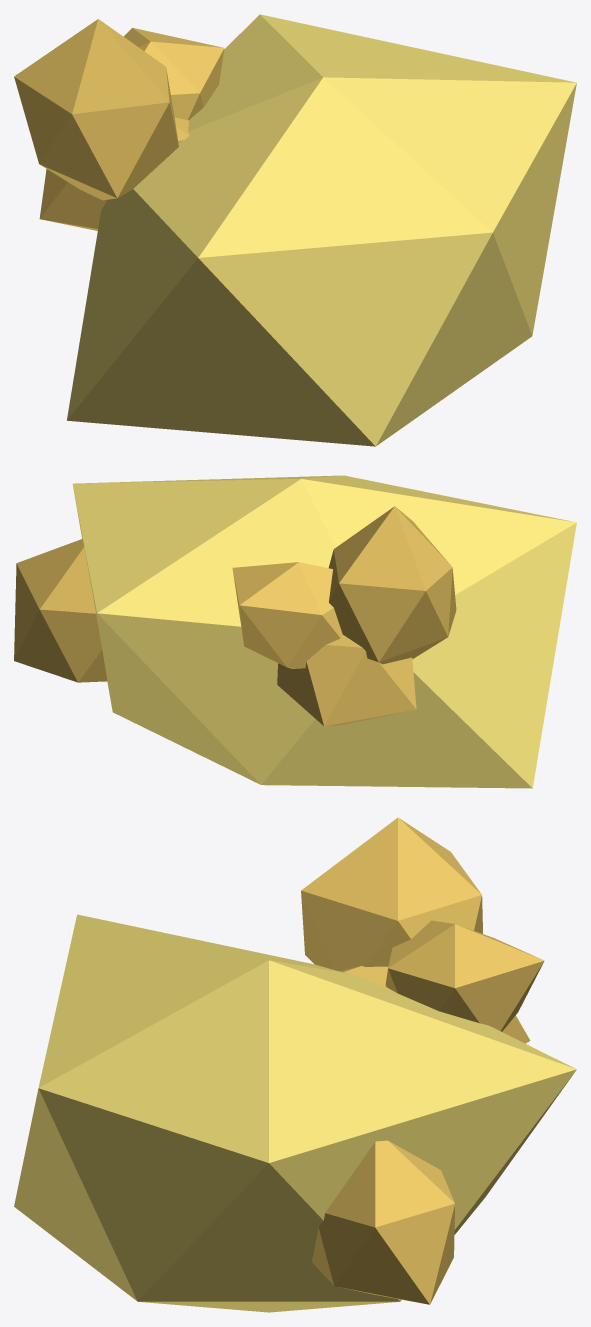
File: raw_gold_held.gltf
The picture shows the model from 3 angles, top to bottom: view 1: azimuth 30°, elevation 25°; view 2: azimuth 150°, elevation 25°; view 3: azimuth 270°, elevation 25°; orthographic projection. The views are drawn at different scales.
Parts seen in each view (by area): view 1: ore_raw_gold_held; view 2: ore_raw_gold_held; view 3: ore_raw_gold_held.
Part boxes in pixels (<box>): ore_raw_gold_held: <box>14,14,576,446</box>; ore_raw_gold_held: <box>14,475,576,788</box>; ore_raw_gold_held: <box>14,817,576,1312</box>.
Size of the model in its own units: 0.1105 by 0.078 by 0.0971.
